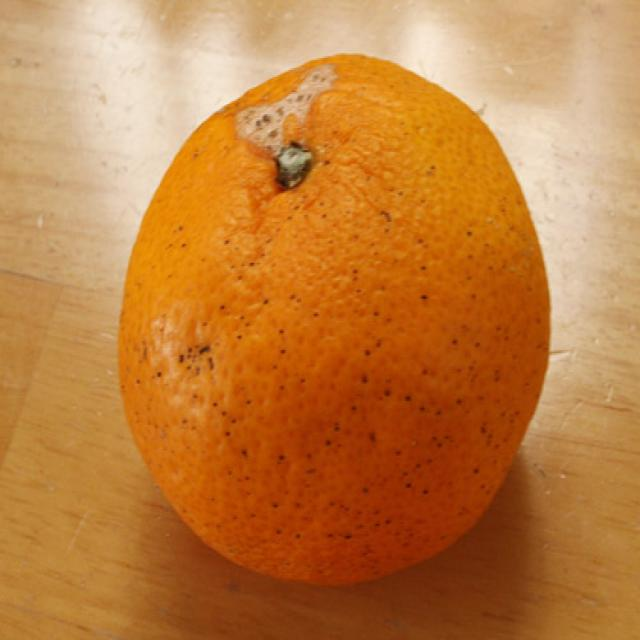Orange: (109, 57, 556, 586)
